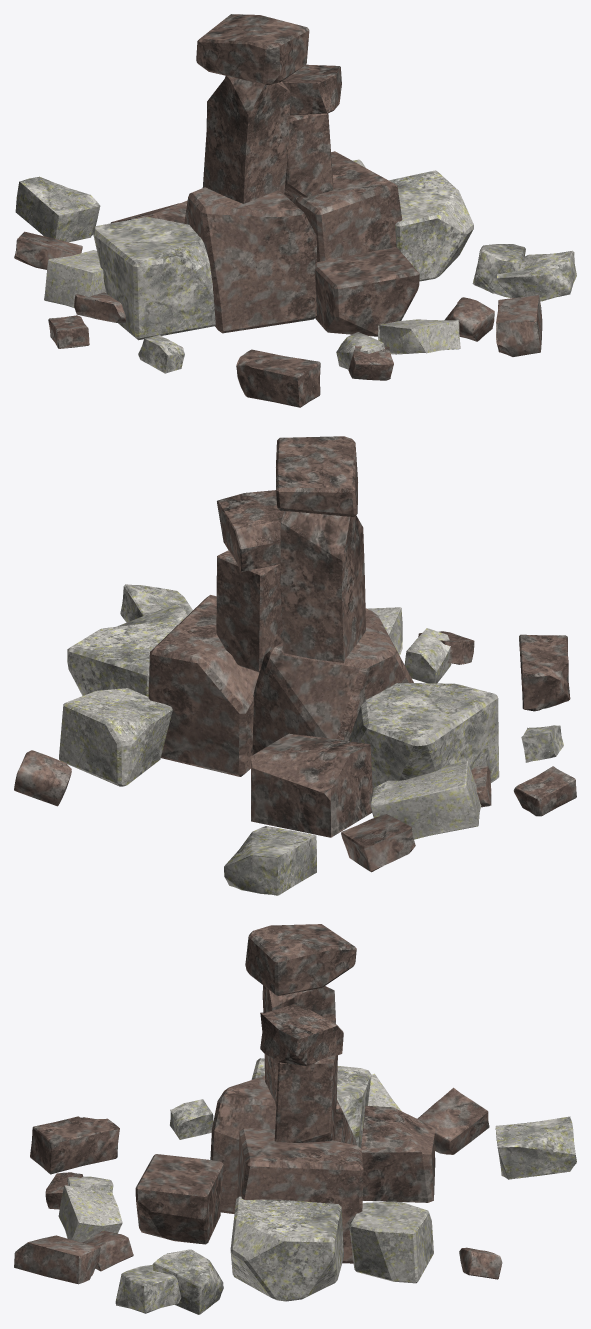
The model's file is cima-paul.glb.
3 views of the same model, one above another, from view 1: azimuth 30°, elevation 25°; view 2: azimuth 150°, elevation 25°; view 3: azimuth 270°, elevation 25° (orthographic). The views are drawn at different scales.
Visible parts, largest first — view 1: hito_granito_rojizo, hito_granito_liquen, bloque8, bloque2, bloque10, bloque5, bloque13, bloque11, bloque7, bloque4, bloque3, bloque9 (+4 smaller); view 2: hito_granito_rojizo, hito_granito_liquen, bloque13, bloque8, bloque2, bloque4, bloque6, bloque12, bloque15, bloque10, bloque9, bloque11 (+3 smaller); view 3: hito_granito_rojizo, hito_granito_liquen, bloque8, bloque2, bloque5, bloque4, bloque11, bloque7, bloque10, bloque9, bloque3, bloque6 (+3 smaller).
Boxes of the visible parts, <box> form: hito_granito_rojizo: <box>111,14,419,336</box>; hito_granito_liquen: <box>93,159,473,340</box>; bloque8: <box>15,176,100,242</box>; bloque2: <box>236,349,320,407</box>; bloque10: <box>497,250,576,301</box>; bloque5: <box>496,295,542,356</box>; bloque13: <box>44,250,106,307</box>; bloque11: <box>378,319,460,354</box>; bloque7: <box>472,244,525,297</box>; bloque4: <box>14,231,82,269</box>; bloque3: <box>444,297,494,341</box>; bloque9: <box>138,335,184,373</box>; hito_granito_rojizo: <box>148,436,413,837</box>; hito_granito_liquen: <box>59,620,499,791</box>; bloque13: <box>370,760,481,839</box>; bloque8: <box>224,826,316,895</box>; bloque2: <box>519,634,570,711</box>; bloque4: <box>341,814,415,872</box>; bloque6: <box>14,750,71,806</box>; bloque12: <box>513,766,576,816</box>; bloque15: <box>404,628,451,683</box>; bloque10: <box>120,584,192,622</box>; bloque9: <box>521,725,563,762</box>; bloque11: <box>367,607,402,655</box>; hito_granito_rojizo: <box>135,924,435,1263</box>; hito_granito_liquen: <box>230,1058,433,1301</box>; bloque8: <box>495,1116,576,1179</box>; bloque2: <box>30,1116,119,1174</box>; bloque5: <box>14,1235,100,1284</box>; bloque4: <box>417,1087,489,1154</box>; bloque11: <box>58,1185,122,1242</box>; bloque7: <box>152,1249,223,1314</box>; bloque10: <box>115,1265,181,1313</box>; bloque9: <box>170,1099,213,1139</box>; bloque3: <box>82,1231,133,1271</box>; bloque6: <box>459,1247,502,1279</box>.
Size of the model in its own units: 3.78 by 2.18 by 3.98.
2 materials, 2 textured.
